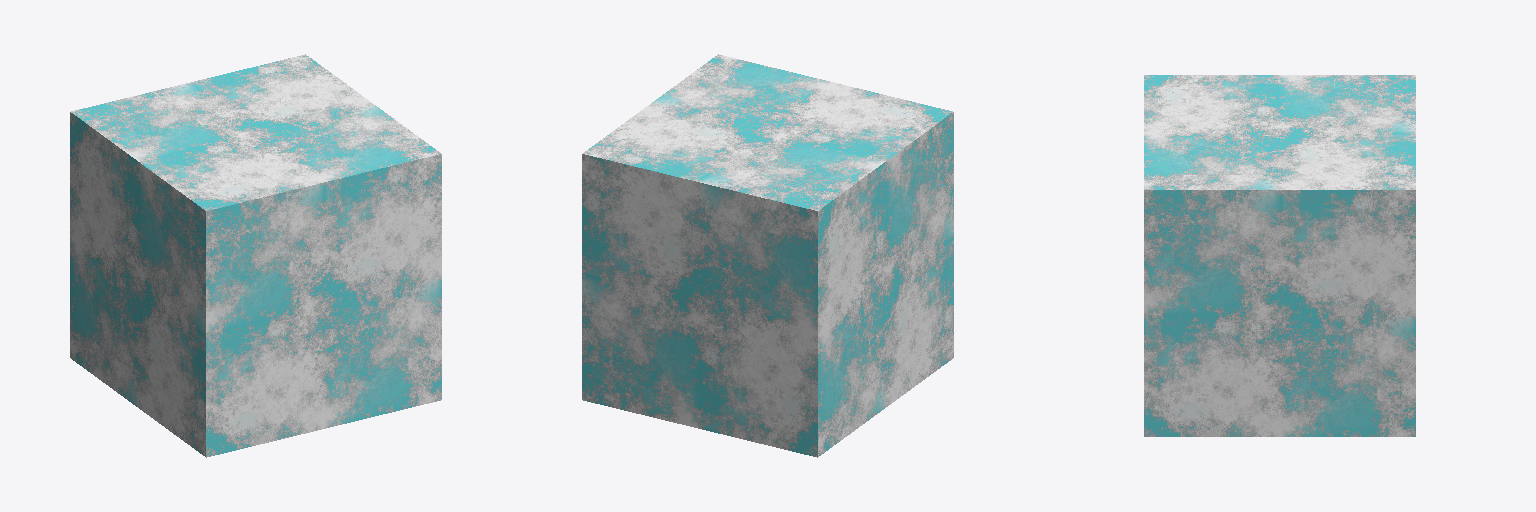
3 renders of one model, left to right at view 1: azimuth 30°, elevation 25°; view 2: azimuth 150°, elevation 25°; view 3: azimuth 270°, elevation 25°, orthographic.
Visible parts, largest first — view 1: Cube; view 2: Cube; view 3: Cube.
Part boxes in pixels (left/top/right/bottom): Cube: left=70, top=54, right=441, bottom=457; Cube: left=582, top=54, right=953, bottom=457; Cube: left=1144, top=75, right=1415, bottom=436.
Size of the model in its own units: 3000 by 3000 by 3000.
Materials: 1 (1 with a texture image).